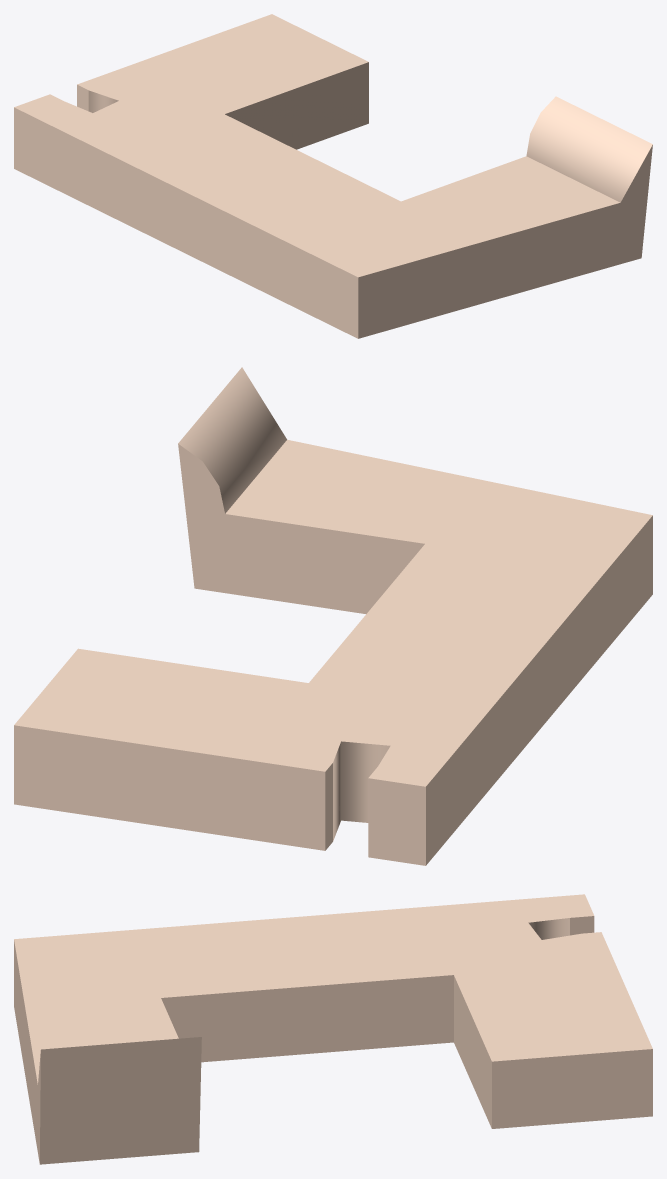
File: Marteau - plaque_Heures.obj
3 views of the same model, one above another, from view 1: azimuth 30°, elevation 25°; view 2: azimuth 150°, elevation 25°; view 3: azimuth 270°, elevation 25° (orthographic). The views are drawn at different scales.
Visible parts, largest first — view 1: Face_8, Face_3, Face_15, Face_10, Face_6; view 2: Face_8, Face_1, Face_4, Face_3, Face_10, Face_2, Face_13; view 3: Face_8, Face_11, Face_5, Face_7, Face_6, Face_15, Face_13, Face_14.
Boxes of the visible parts, x1=… form: Face_8: x1=14, y1=14, x2=619, y2=277; Face_3: x1=14, y1=107, x2=358, y2=338; Face_15: x1=358, y1=145, x2=652, y2=338; Face_10: x1=526, y1=96, x2=652, y2=202; Face_6: x1=225, y1=62, x2=368, y2=149; Face_8: x1=14, y1=439, x2=652, y2=786; Face_1: x1=14, y1=725, x2=325, y2=850; Face_4: x1=178, y1=444, x2=424, y2=613; Face_3: x1=426, y1=515, x2=652, y2=865; Face_10: x1=178, y1=367, x2=286, y2=513; Face_2: x1=368, y1=778, x2=425, y2=865; Face_13: x1=333, y1=741, x2=390, y2=841; Face_8: x1=14, y1=894, x2=652, y2=1084; Face_11: x1=40, y1=1037, x2=201, y2=1164; Face_5: x1=161, y1=975, x2=453, y2=1062; Face_7: x1=492, y1=1049, x2=652, y2=1128; Face_6: x1=454, y1=976, x2=491, y2=1128; Face_15: x1=14, y1=940, x2=40, y2=1164; Face_13: x1=528, y1=918, x2=569, y2=939; Face_14: x1=570, y1=916, x2=594, y2=935.
Bounding box in the file's own units: 0.0166 × 0.0045 × 0.0215.
